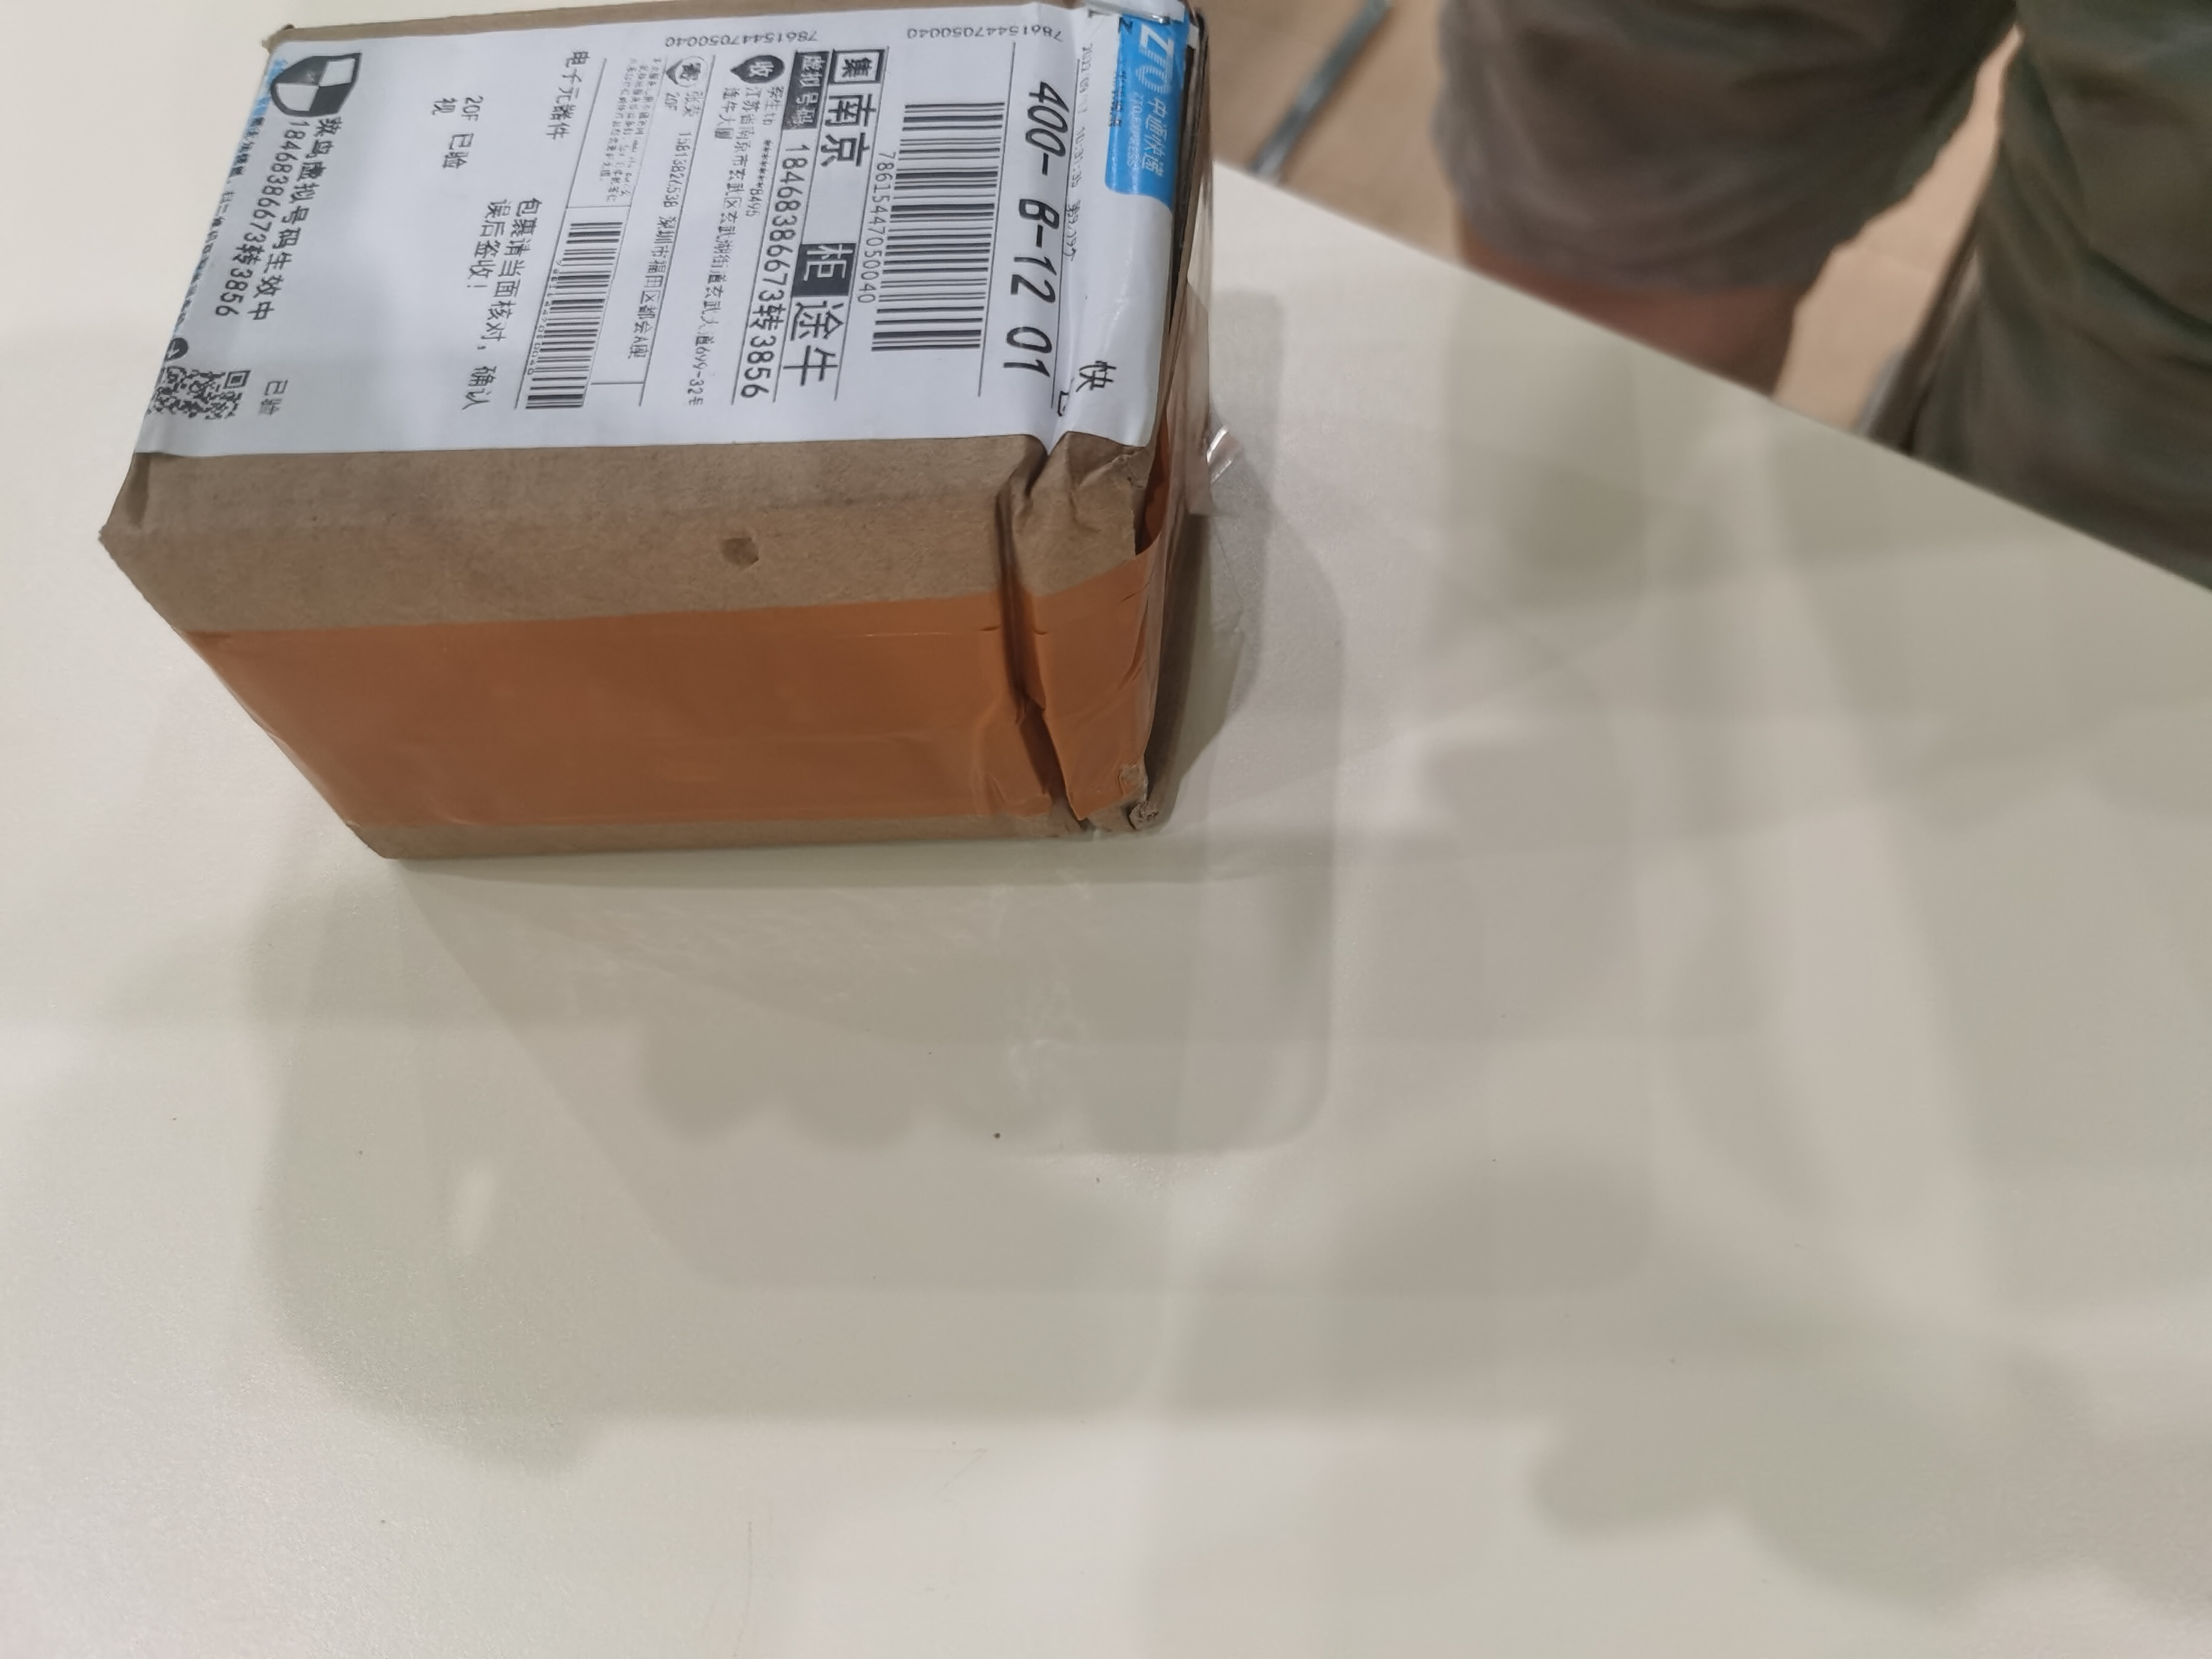box: (98, 16, 1195, 866)
